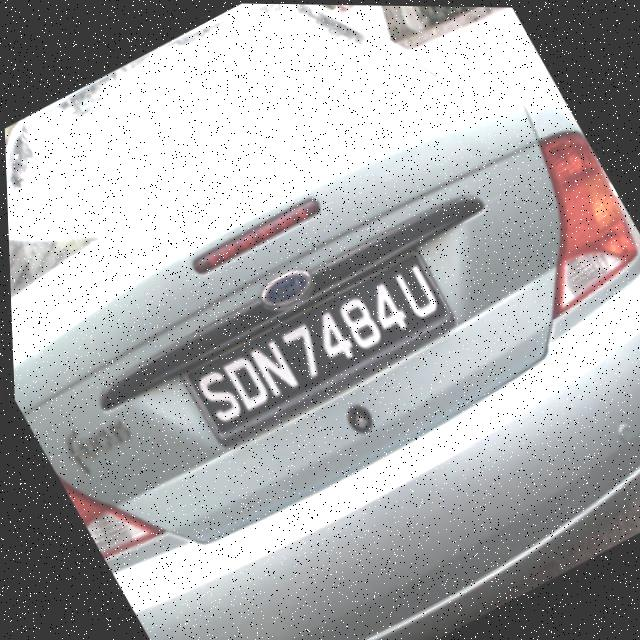license_plate: (170, 242, 456, 447)
